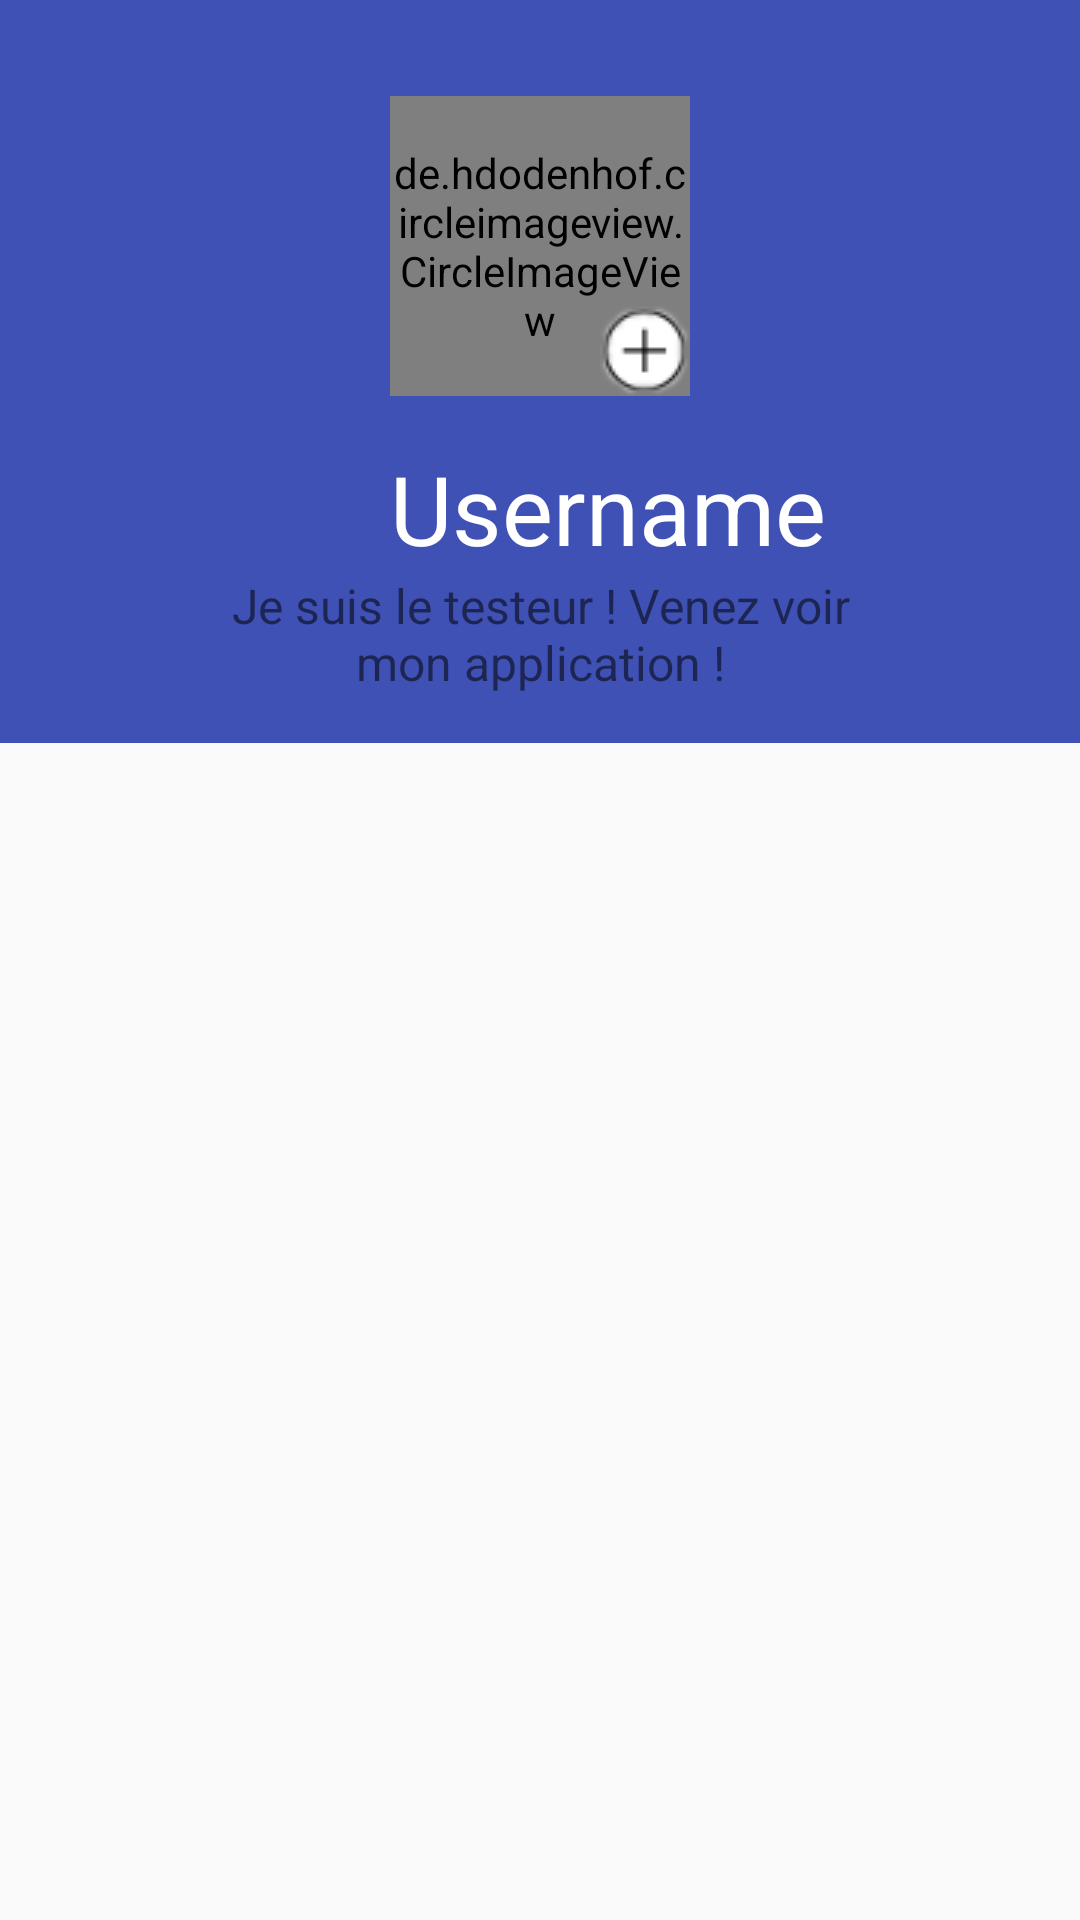

Named icons in this screenshot (1080 x 1920) and their centers, point (x, y):
Follow User: point (644, 350)
